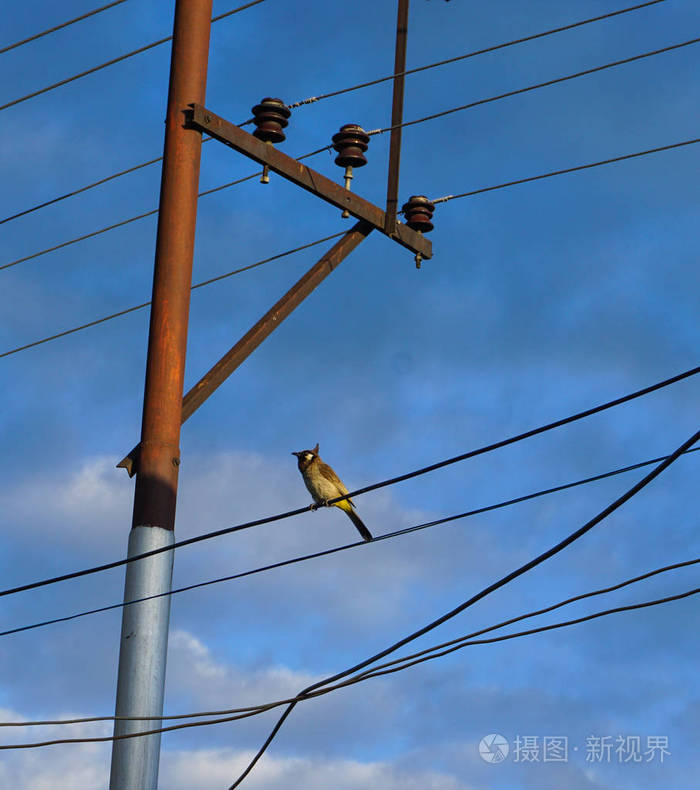insulator: (251, 99, 293, 143), (332, 128, 372, 170), (402, 197, 437, 231)
